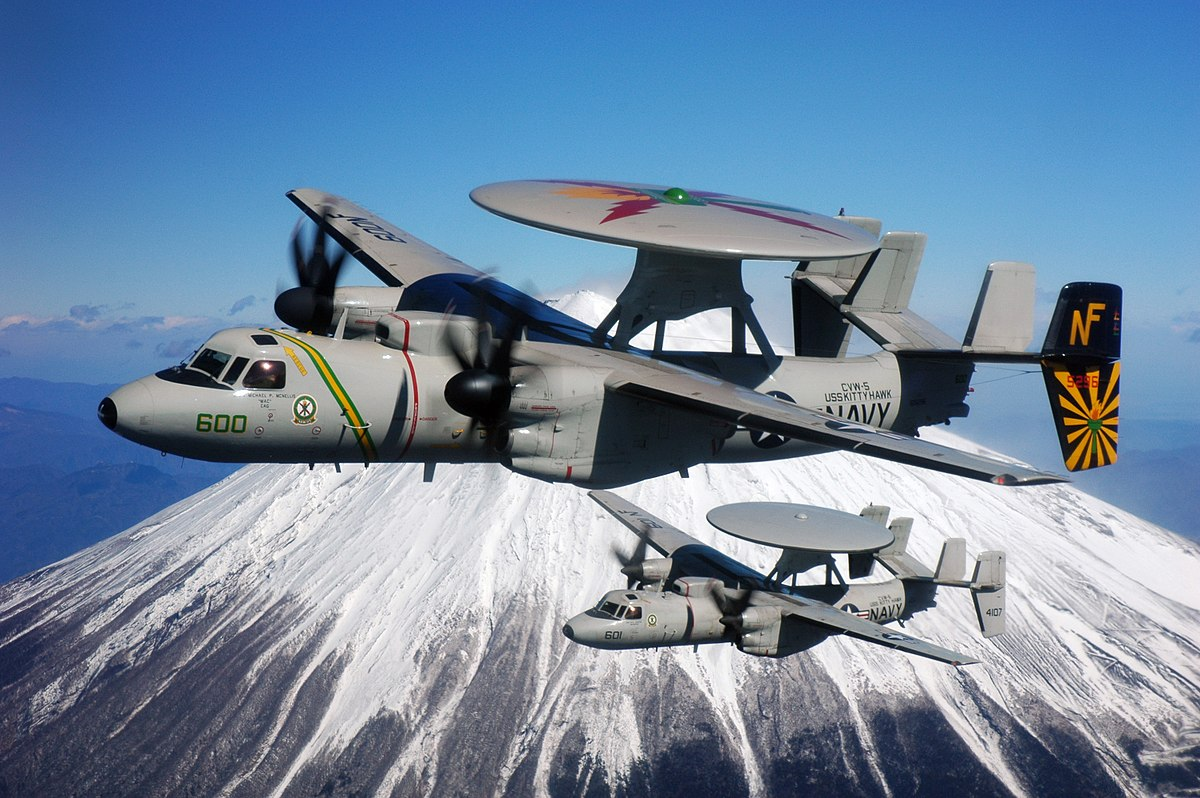E2: (96, 179, 1123, 491), (563, 490, 1007, 666)
